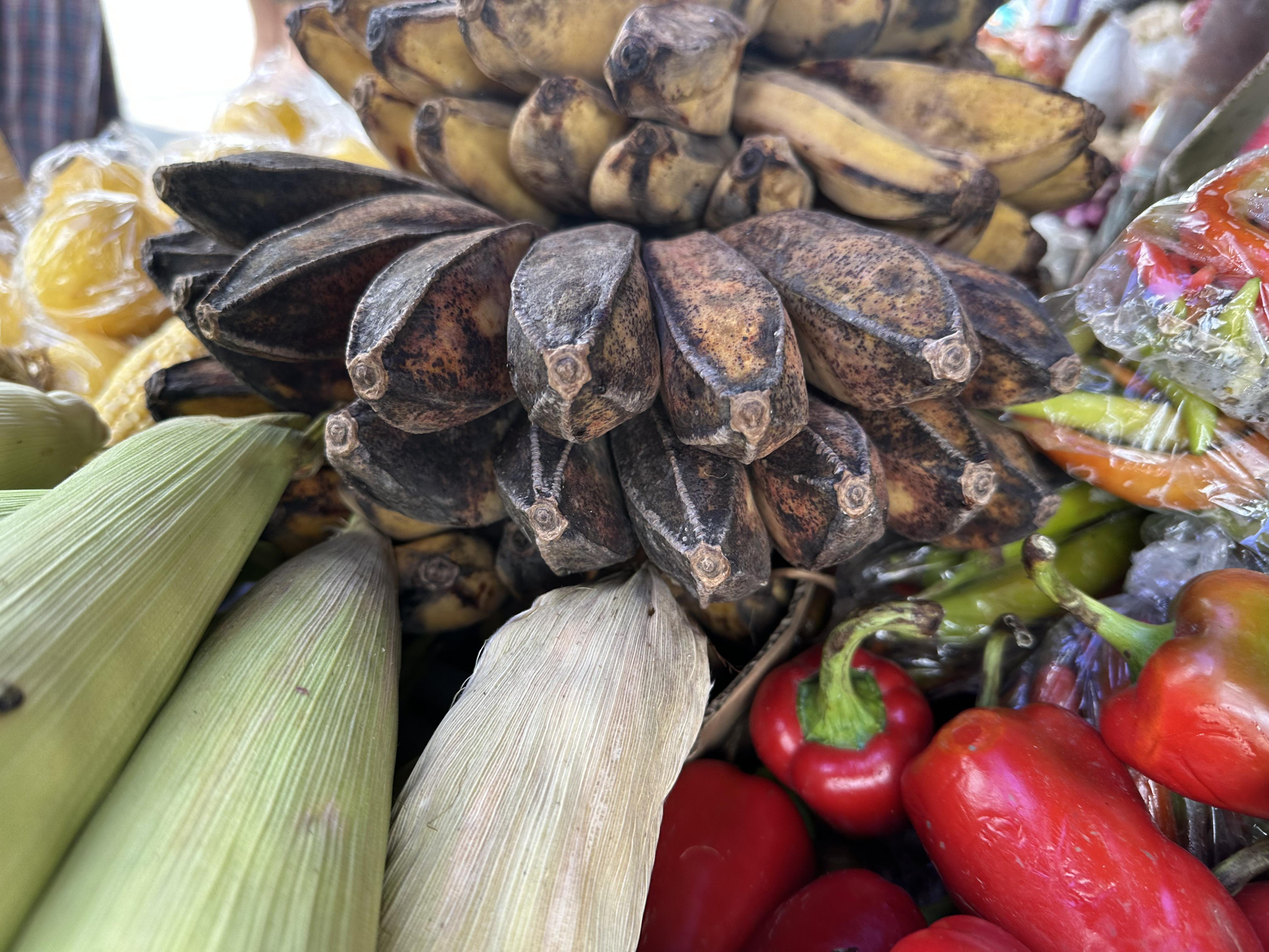overripe: (141, 149, 1088, 615)
ripe: (285, 0, 815, 238), (701, 0, 1116, 287)
